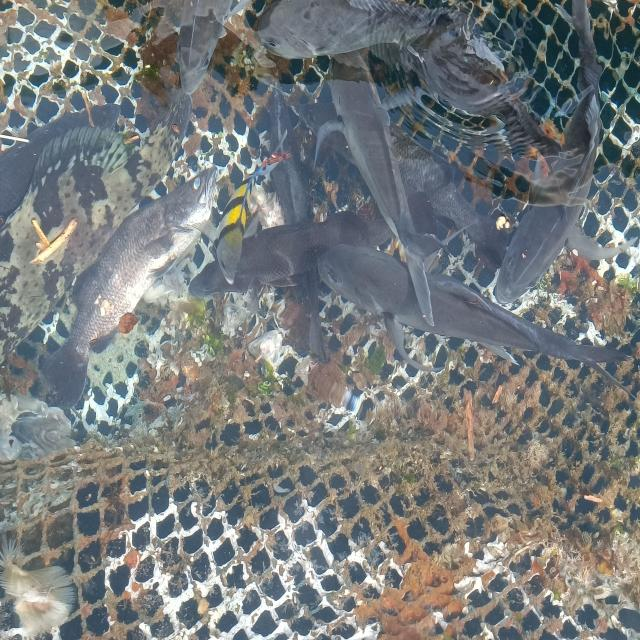ikan: (484, 8, 624, 306), (24, 162, 223, 371), (405, 259, 640, 375), (324, 58, 407, 263), (210, 151, 290, 285), (173, 2, 254, 100)
